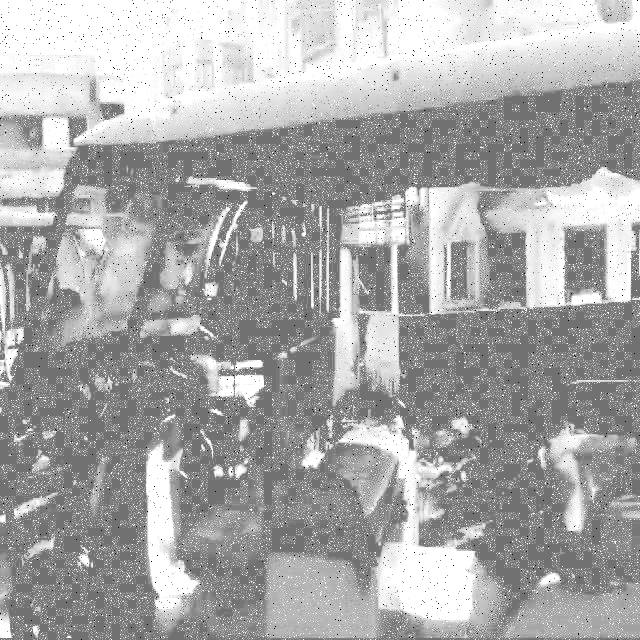Toto: (29, 26, 638, 640)
